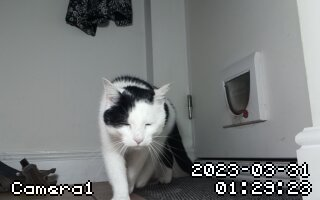bad: (96, 71, 197, 199)
